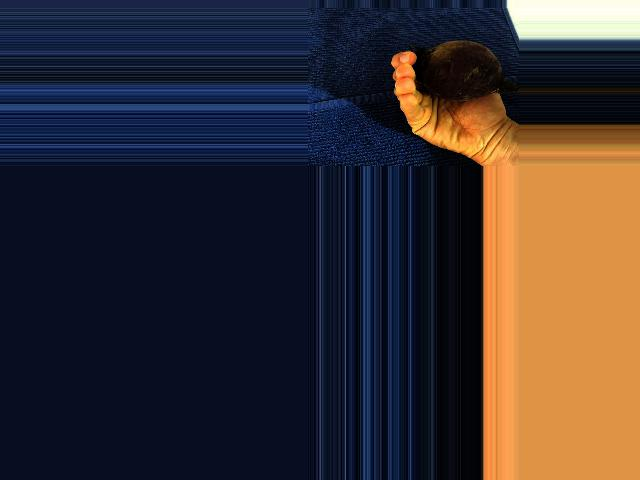beet: (407, 41, 518, 102)
